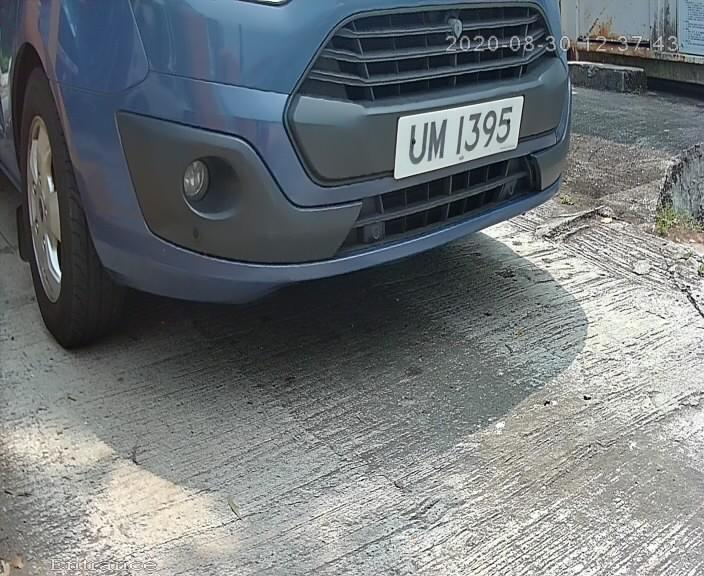License Plate: (387, 88, 529, 188)
